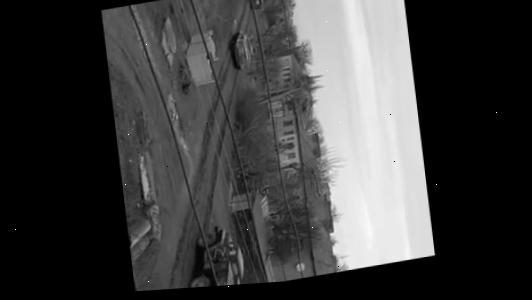tank: (227, 27, 257, 70)
truck: (174, 220, 247, 289), (244, 0, 267, 14)
